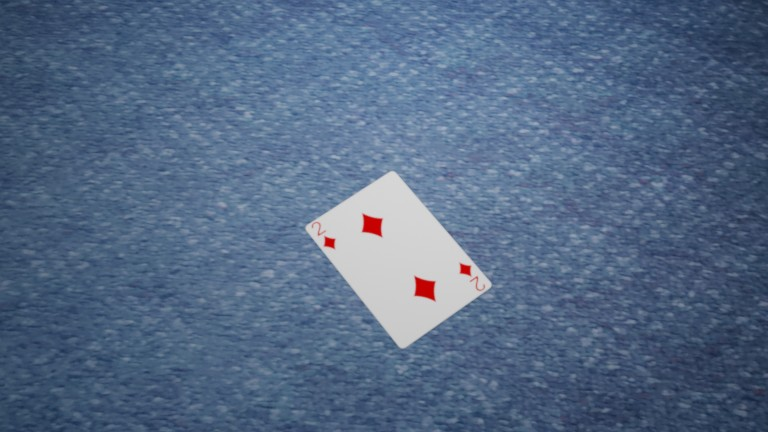2_of_diamonds: (180, 102, 196, 118), (122, 87, 138, 102)
